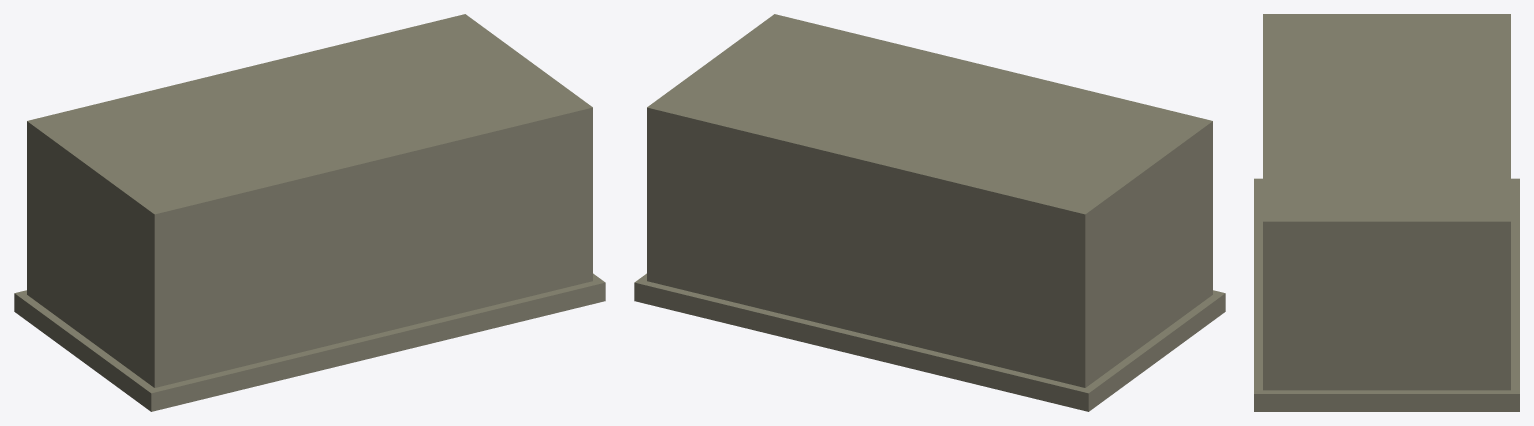
File: ruin-arcade-a.far-facades-v2.lod2.glb
3 views of the same model, side by side, from view 1: azimuth 30°, elevation 25°; view 2: azimuth 150°, elevation 25°; view 3: azimuth 270°, elevation 25° (orthographic). The views are drawn at different scales.
Visible parts, largest first — view 1: ruin-arcade-a; view 2: ruin-arcade-a; view 3: ruin-arcade-a.
Boxes of the visible parts, x1,y1,x2,y2 form: ruin-arcade-a: [14, 14, 605, 411]; ruin-arcade-a: [634, 14, 1225, 411]; ruin-arcade-a: [1254, 14, 1519, 411].
Size of the model in its own units: 23 by 9.3 by 12.
